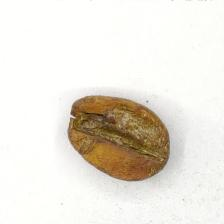NG: (73, 98, 170, 163)
